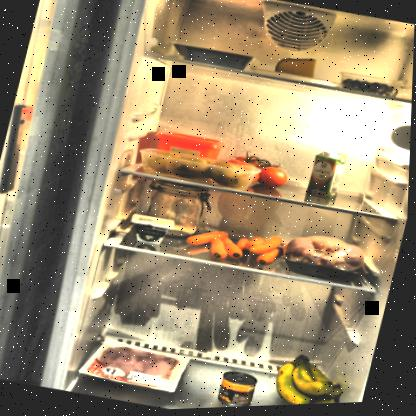banana: (267, 346, 363, 407)
blueberries: (340, 77, 401, 103)
butter: (152, 126, 230, 169)
carrot: (183, 218, 293, 277)
cheese: (273, 52, 321, 86)
chicken: (279, 226, 383, 291)
corn: (217, 369, 262, 408)
heavy_cream: (305, 150, 346, 205)
potato: (136, 142, 258, 197)
tomato: (225, 147, 298, 196)
